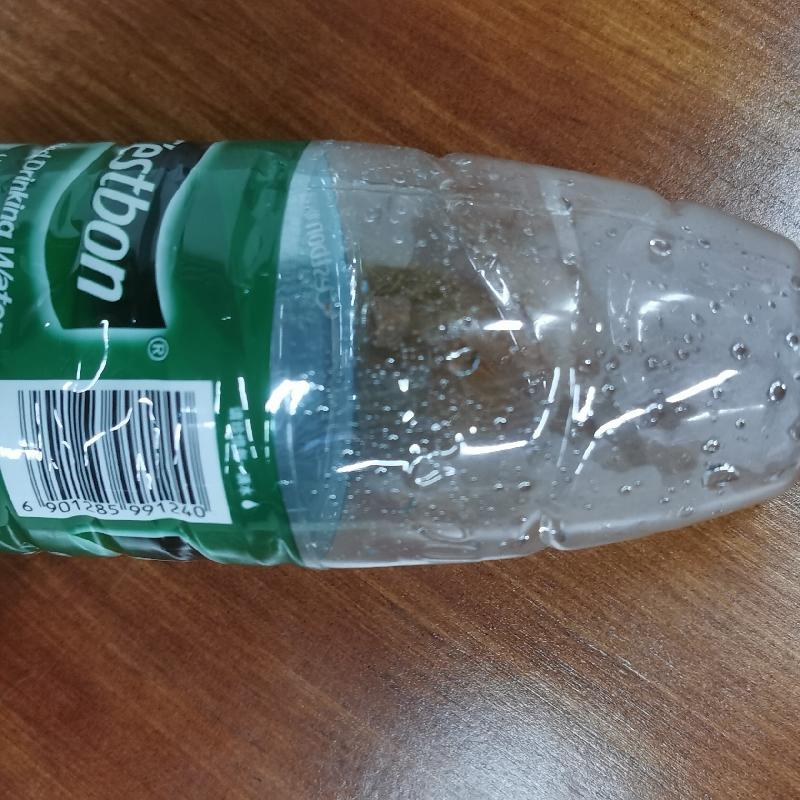bottles: (1, 136, 799, 572)
